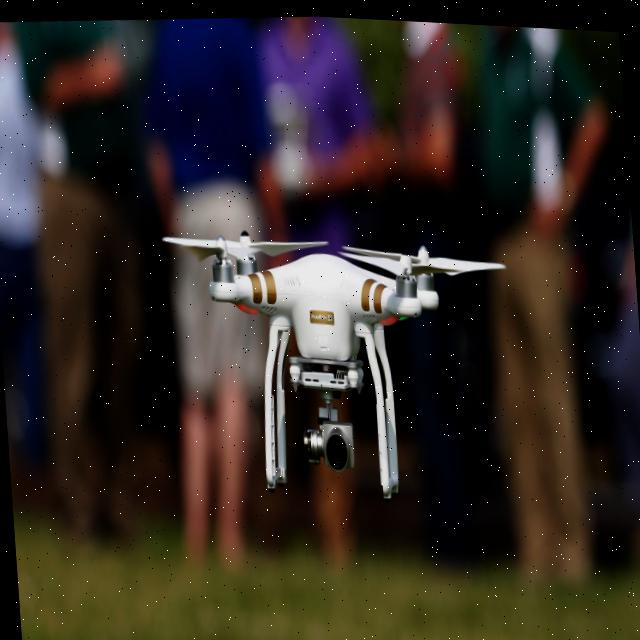drone: (145, 163, 542, 522)
